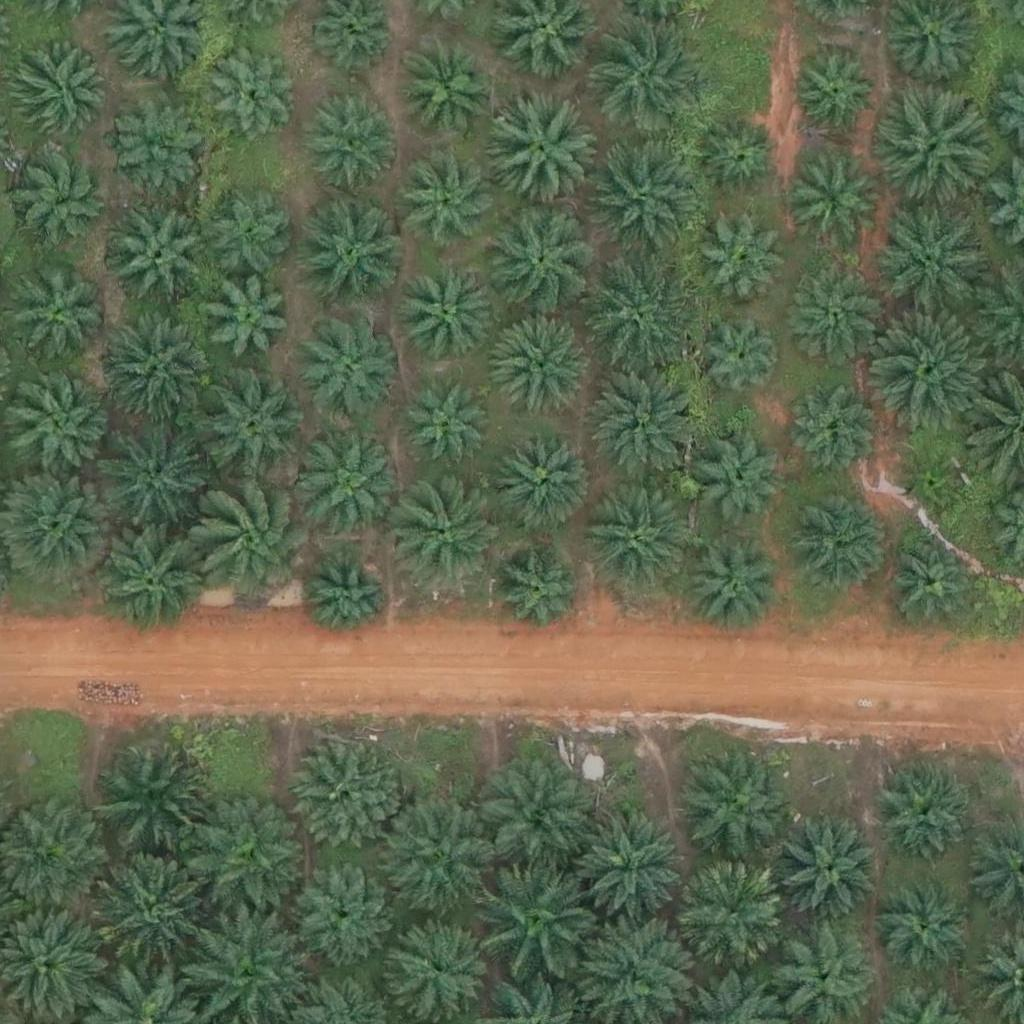Kelapa_Sawit: (193, 481, 318, 607), (679, 746, 792, 860), (577, 810, 690, 924), (591, 141, 704, 255), (675, 860, 788, 973), (483, 861, 596, 974), (290, 742, 403, 855), (188, 803, 301, 916), (877, 83, 990, 196), (481, 97, 594, 210), (97, 318, 210, 431), (97, 419, 210, 532), (93, 526, 206, 639), (387, 799, 499, 913), (579, 482, 691, 596), (481, 762, 593, 875), (100, 739, 212, 852), (93, 850, 205, 963), (876, 204, 988, 317), (873, 315, 985, 428), (594, 20, 706, 133), (582, 260, 694, 373), (590, 372, 702, 485), (484, 204, 596, 317), (394, 478, 506, 591), (193, 370, 305, 483), (2, 474, 114, 587), (874, 764, 974, 865), (777, 822, 877, 923), (389, 915, 489, 1016), (291, 856, 391, 957), (790, 495, 890, 596), (684, 539, 784, 640), (495, 430, 595, 531), (398, 38, 498, 139), (400, 155, 500, 256), (396, 266, 496, 367), (301, 87, 401, 188), (300, 206, 400, 307), (297, 315, 397, 416), (113, 211, 213, 312), (6, 44, 106, 145), (11, 144, 111, 245), (7, 376, 107, 477), (875, 878, 975, 978), (494, 313, 594, 413), (302, 438, 402, 538), (105, 94, 205, 194), (791, 270, 879, 358), (700, 221, 788, 309), (696, 315, 784, 403), (496, 553, 584, 641), (888, 536, 975, 625), (792, 51, 879, 140), (408, 381, 495, 470), (796, 166, 883, 254), (789, 386, 876, 474), (695, 118, 782, 206), (696, 432, 783, 520), (303, 553, 390, 641), (207, 48, 294, 136), (207, 189, 294, 277), (204, 277, 291, 365), (15, 272, 102, 360), (904, 454, 967, 517)
